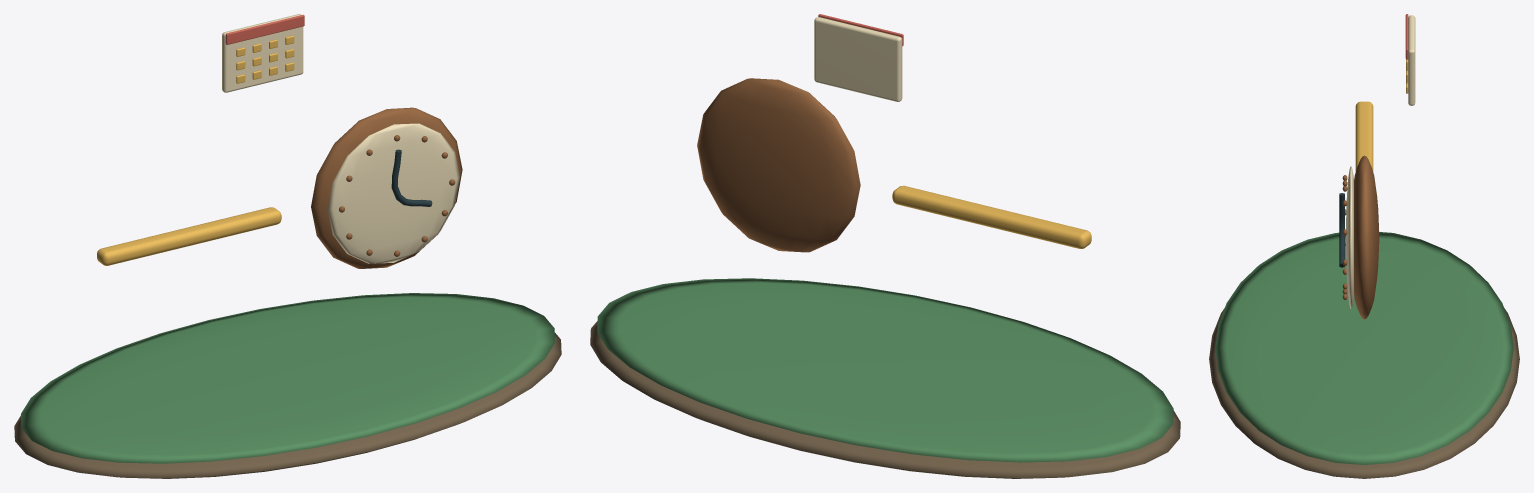
File: complete-third-level-usual-clock.glb
3 views of the same model, side by side, from view 1: azimuth 30°, elevation 25°; view 2: azimuth 150°, elevation 25°; view 3: azimuth 270°, elevation 25° (orthographic). The views are drawn at different scales.
Parts seen in each view (by area): view 1: complete-third-level-usual-clock_surface_01, complete-third-level-usual-clock_surface_04, complete-third-level-usual-clock_surface_00, complete-third-level-usual-clock_surface_03, complete-third-level-usual-clock_surface_02, complete-third-level-usual-clock_surface_06, complete-third-level-usual-clock_surface_05; view 2: complete-third-level-usual-clock_surface_01, complete-third-level-usual-clock_surface_03, complete-third-level-usual-clock_surface_00, complete-third-level-usual-clock_surface_04, complete-third-level-usual-clock_surface_02; view 3: complete-third-level-usual-clock_surface_01, complete-third-level-usual-clock_surface_00, complete-third-level-usual-clock_surface_03, complete-third-level-usual-clock_surface_04, complete-third-level-usual-clock_surface_02, complete-third-level-usual-clock_surface_05.
Boxes of the visible parts, x1,y1,x2,y2 form: complete-third-level-usual-clock_surface_01: [21, 293, 554, 463]; complete-third-level-usual-clock_surface_04: [222, 14, 459, 263]; complete-third-level-usual-clock_surface_00: [14, 333, 561, 478]; complete-third-level-usual-clock_surface_03: [311, 107, 462, 268]; complete-third-level-usual-clock_surface_02: [97, 35, 294, 265]; complete-third-level-usual-clock_surface_06: [225, 14, 304, 44]; complete-third-level-usual-clock_surface_05: [391, 149, 432, 206]; complete-third-level-usual-clock_surface_01: [597, 278, 1173, 462]; complete-third-level-usual-clock_surface_03: [697, 78, 860, 252]; complete-third-level-usual-clock_surface_00: [590, 321, 1180, 478]; complete-third-level-usual-clock_surface_04: [814, 17, 902, 146]; complete-third-level-usual-clock_surface_02: [892, 185, 1091, 248]; complete-third-level-usual-clock_surface_01: [1215, 232, 1513, 464]; complete-third-level-usual-clock_surface_00: [1209, 308, 1519, 478]; complete-third-level-usual-clock_surface_03: [1342, 155, 1379, 319]; complete-third-level-usual-clock_surface_04: [1346, 15, 1415, 308]; complete-third-level-usual-clock_surface_02: [1355, 59, 1408, 171]; complete-third-level-usual-clock_surface_05: [1339, 193, 1344, 267].
Size of the model in its own units: 4.56 by 3.04 by 2.5.
